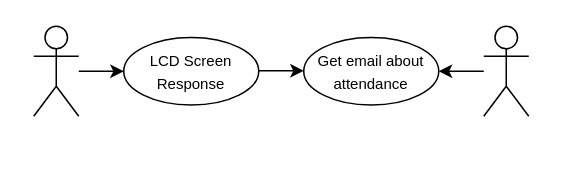
This 570x174 diagram has some shape labels left out. Here are the shapes that lost their labels. From the top down, the box of each, then its label:
(32, 25, 79, 116): Student
(482, 25, 529, 116): Professor
